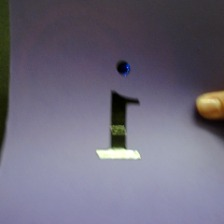violet1: (88, 59, 153, 162)
